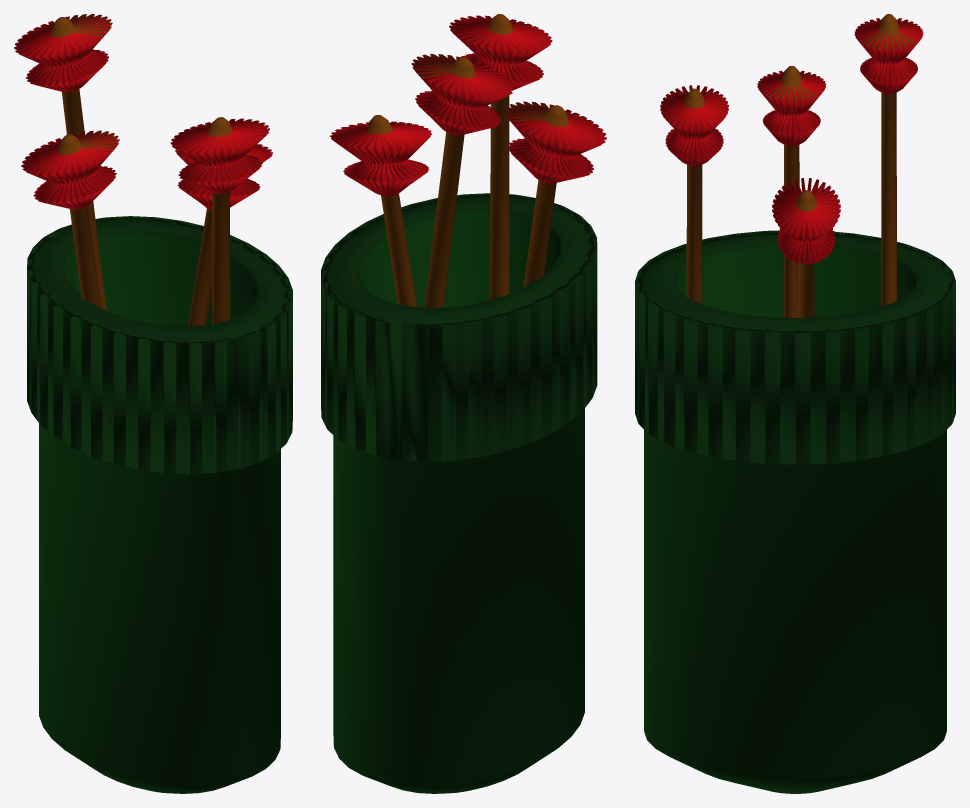
File: Arrows.fbx
3 renders of one model, left to right at view 1: azimuth 30°, elevation 25°; view 2: azimuth 150°, elevation 25°; view 3: azimuth 270°, elevation 25°, orthographic. The views are drawn at different scales.
Visible parts, largest first — view 1: Arrow; view 2: Arrow; view 3: Arrow.
Boxes of the visible parts, x1,y1,x2,y2 form: Arrow: (14,14,292,793); Arrow: (321,14,606,793); Arrow: (635,14,955,793).
Bounding box in the file's own units: 74.24 × 207 × 81.23.
